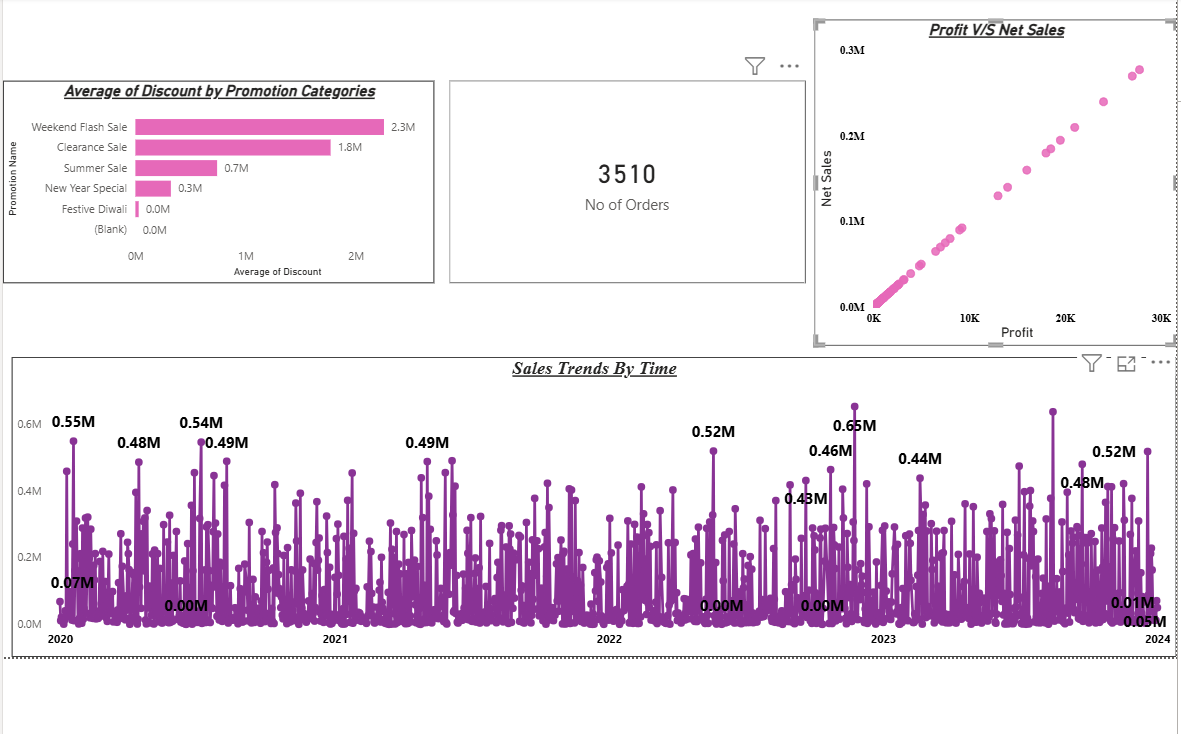

What the dashboard file says about the page in this screenshot:
{"tool":"powerbi","page":{"name":"Overview","canvas":[1280,720],"ordinal":1},"visuals":[{"type":"lineChart","title":"Sales Trends By Time","fields":{"Y":["Sum(Fact Table.Net Sales)"],"Category":["Fact Table.Date (dd/mm/yyyy).Variation.Date Hierarchy.Year"]},"box":[10,392.9,1270,327.1],"z":0},{"type":"scatterChart","title":"Profit V/S Net Sales","fields":{"X":["Fact Table.Profit"],"Y":["Fact Table.Net Sales"]},"box":[884.3,24.3,395.7,355.7],"z":1000},{"type":"barChart","title":"Average of Discount  by Promotion Categories","fields":{"Y":["Avg(Fact Table.Discount )"],"Category":["Dim Promotion.Promotion Name"]},"box":[0,91.3,470.4,220.9],"z":2000},{"type":"card","fields":{"Values":["Count(Fact Table.Order ID)"]},"box":[486.8,91.3,388.6,220.9],"z":4000}]}

Visuals, with their boxes on the page's 1280x720 design canvas (x1, y1, x2, y2). These are canvas units, not pixel positions in the 1181x734 screenshot, which may show the page scaled, cropped or inside an application window:
"Sales Trends By Time" lineChart: 10/393/1280/720
"Profit V/S Net Sales" scatterChart: 884/24/1280/380
"Average of Discount  by Promotion Categories" barChart: 0/91/470/312
card - Count(Fact Table.Order ID): 487/91/875/312
